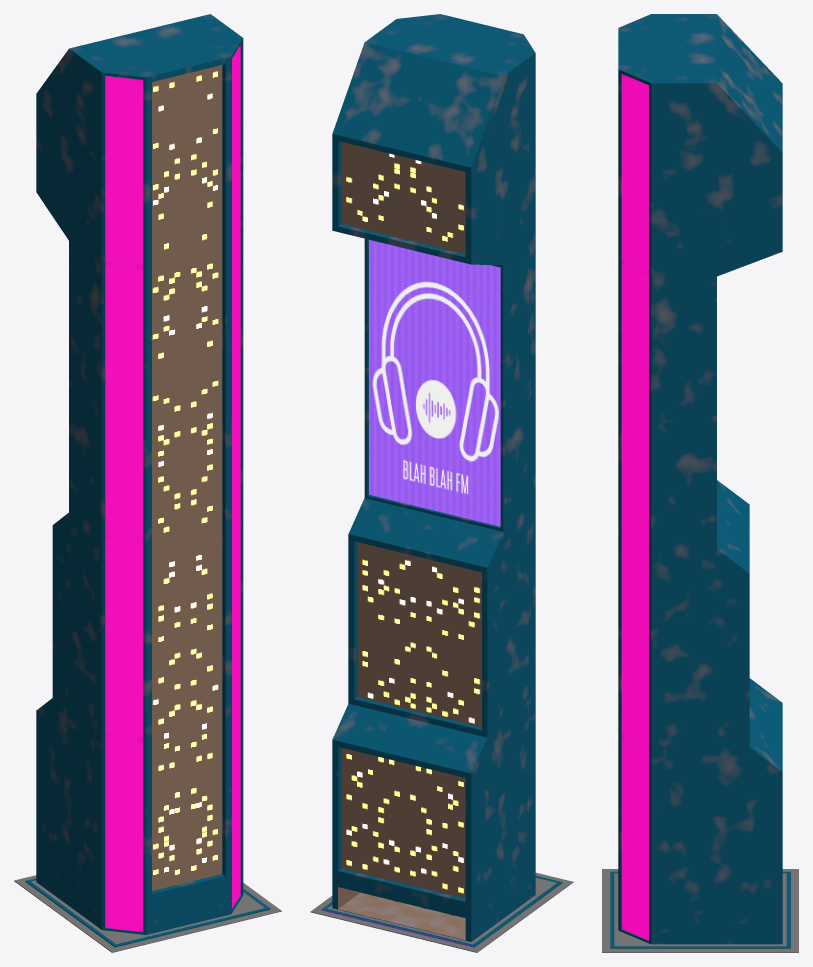
Rendered from Bina 1.fbx.
3 renders of one model, left to right at view 1: azimuth 30°, elevation 25°; view 2: azimuth 150°, elevation 25°; view 3: azimuth 270°, elevation 25°, orthographic. The views are drawn at different scales.
Visible parts, largest first — view 1: Candle, CandleStand; view 2: Candle, CandleStand; view 3: Candle, CandleStand.
Part boxes in pixels (box(x1,y1,x2,y2)): Candle: box(36, 14, 243, 934); CandleStand: box(14, 875, 281, 952); Candle: box(332, 14, 535, 941); CandleStand: box(310, 872, 573, 952); Candle: box(618, 14, 782, 944); CandleStand: box(602, 869, 798, 952).
Bounding box in the file's own units: 38.54 × 186 × 38.54.
3 materials, 3 textured.
